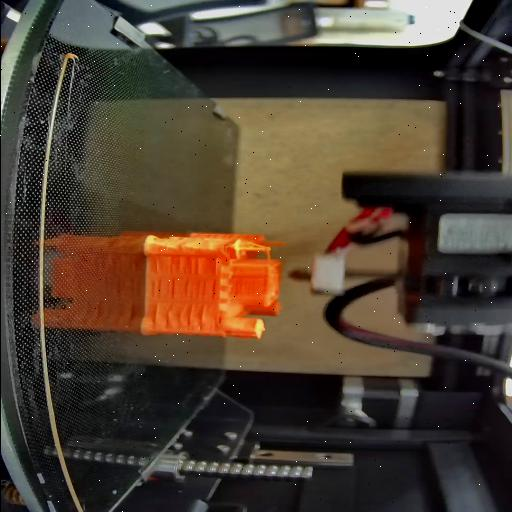cracks: (145, 276, 219, 302), (151, 304, 206, 332), (153, 254, 199, 274), (231, 280, 245, 296), (210, 254, 218, 274), (217, 312, 226, 326)
